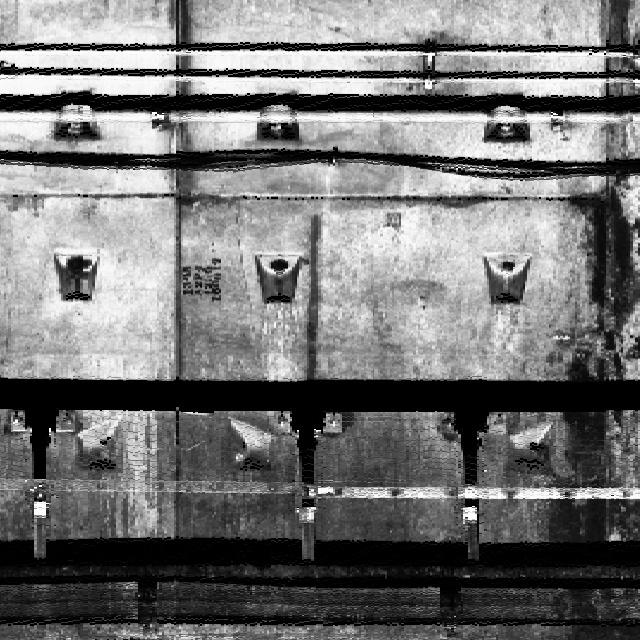leakage: (568, 173, 639, 380), (556, 409, 639, 543), (154, 0, 201, 219), (593, 1, 639, 154)
